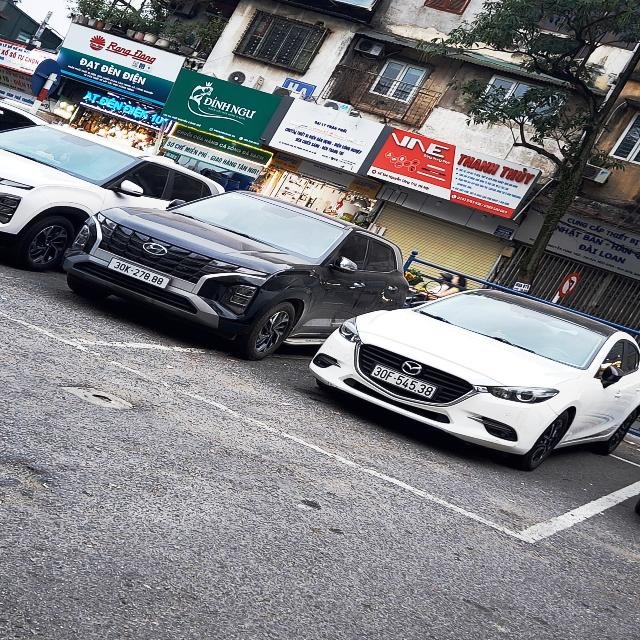license_plate: (367, 362, 442, 403), (106, 255, 175, 292)
